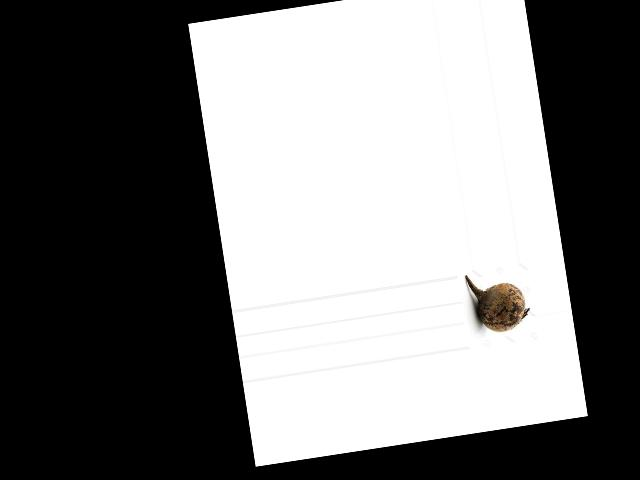beet: (465, 267, 532, 336)
